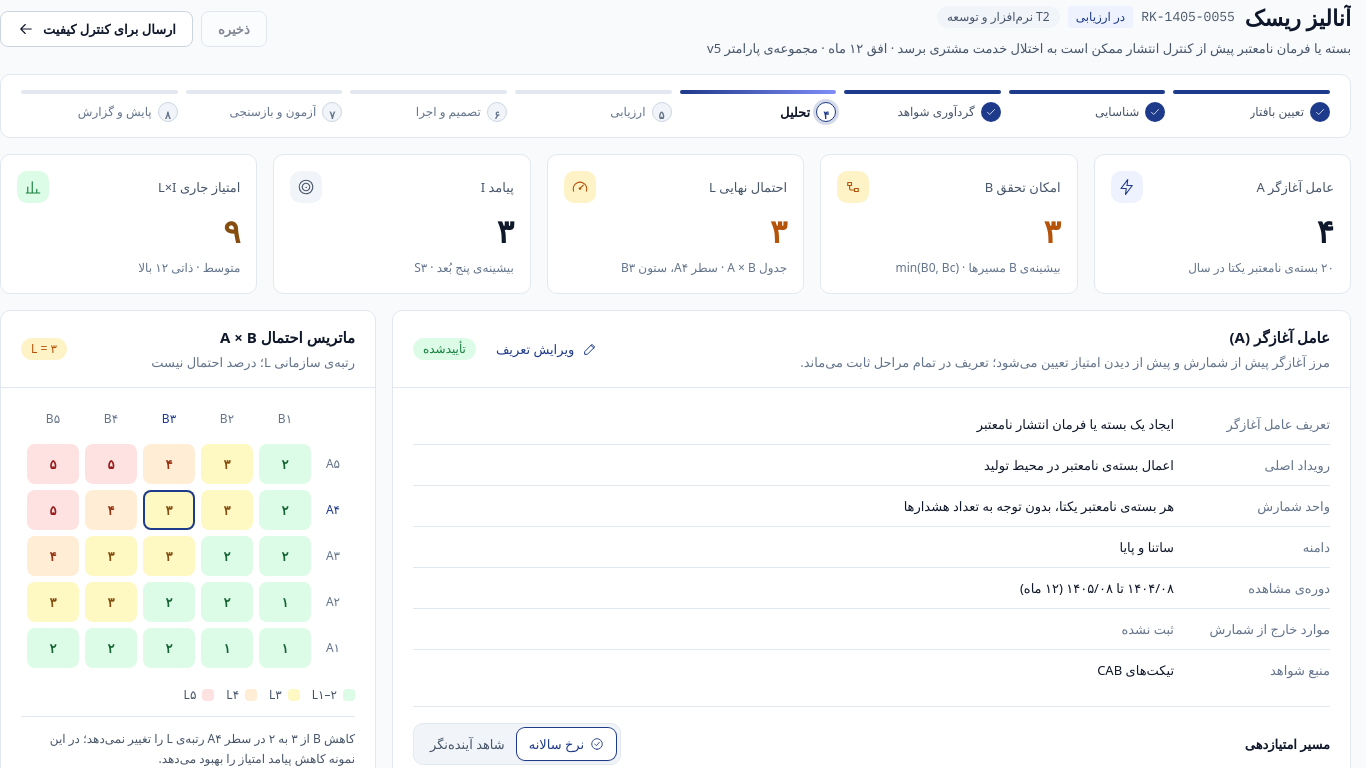
Test case: AnalysisPage › lists submission problems and keeps the confirm button disabled
This screenshot has width=1366, height=768.
Click the button "ارسال برای کنترل کیفیت" at coordinates (96, 29), box [0,11,193,47]
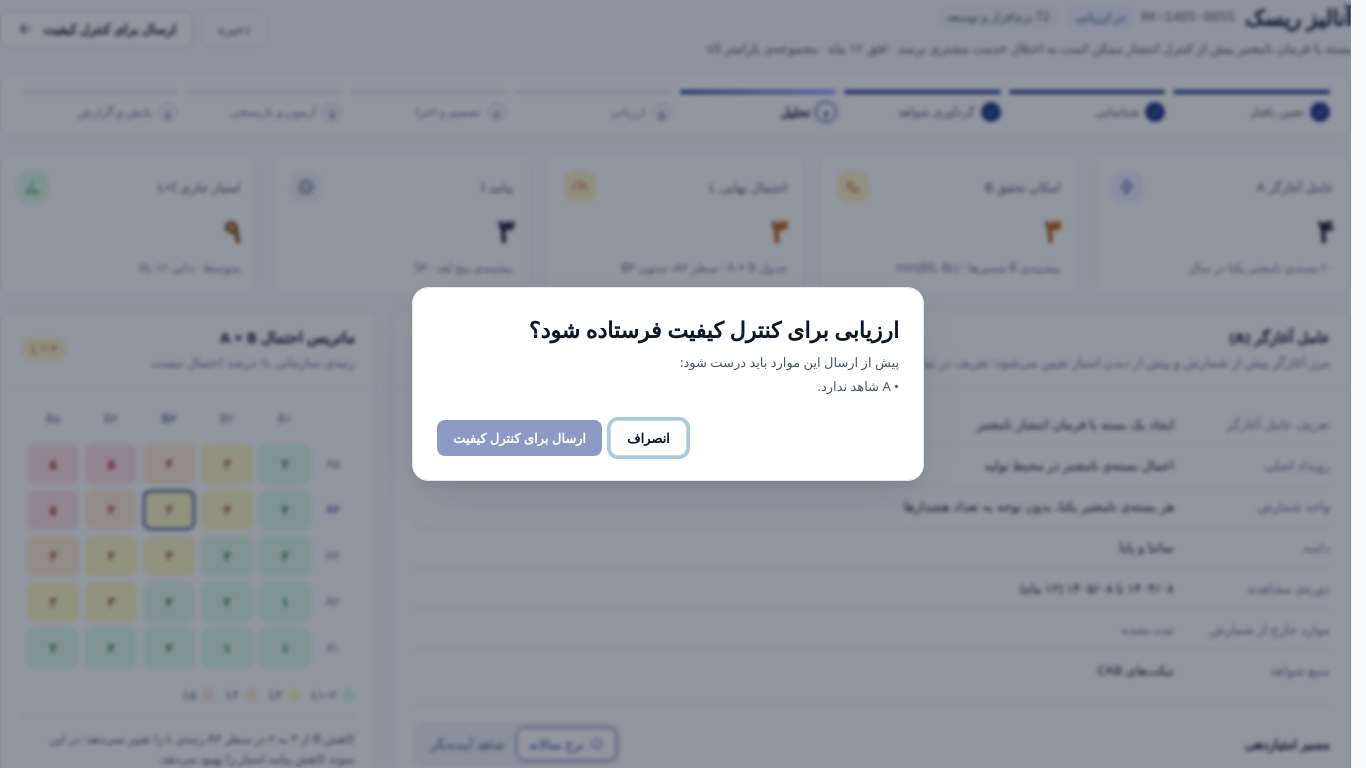
expect the dialog shows "A شاهد ندارد.": met, box [818,377,891,395]
expect the button "ارسال برای کنترل کیفیت" is disabled: met, box [437,420,602,456]
